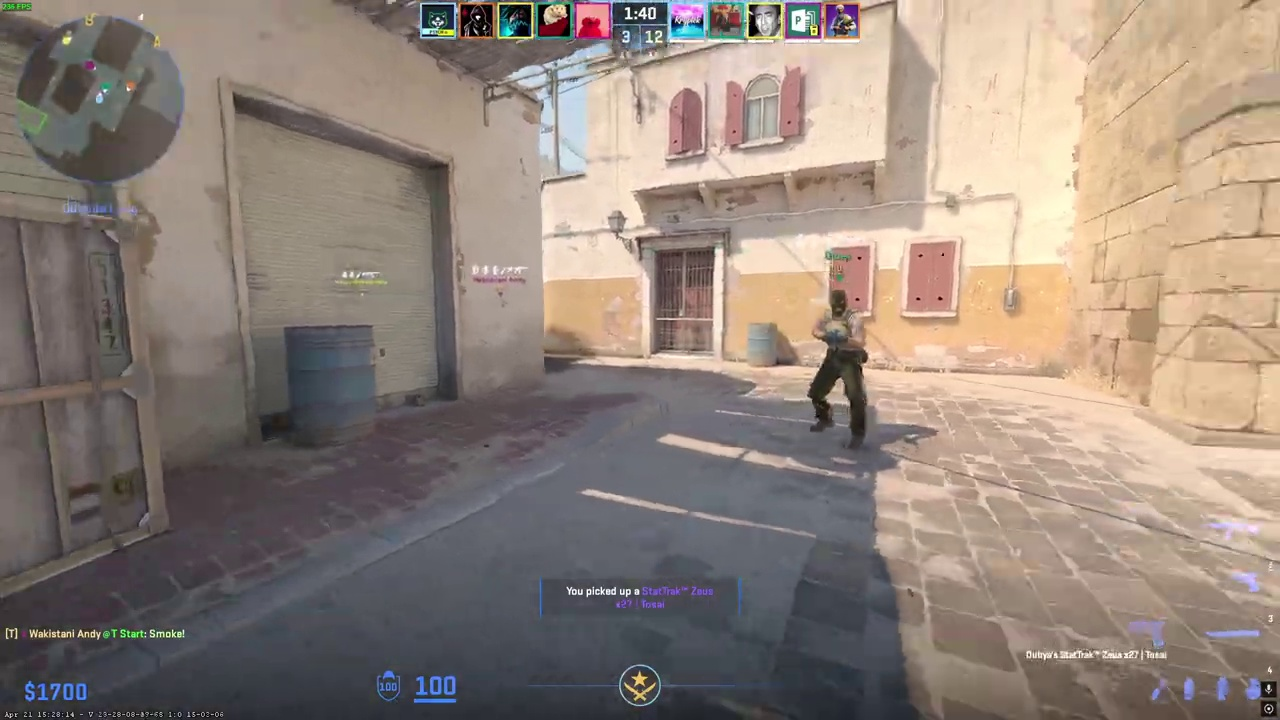Terrorist: (806, 289, 873, 451)
